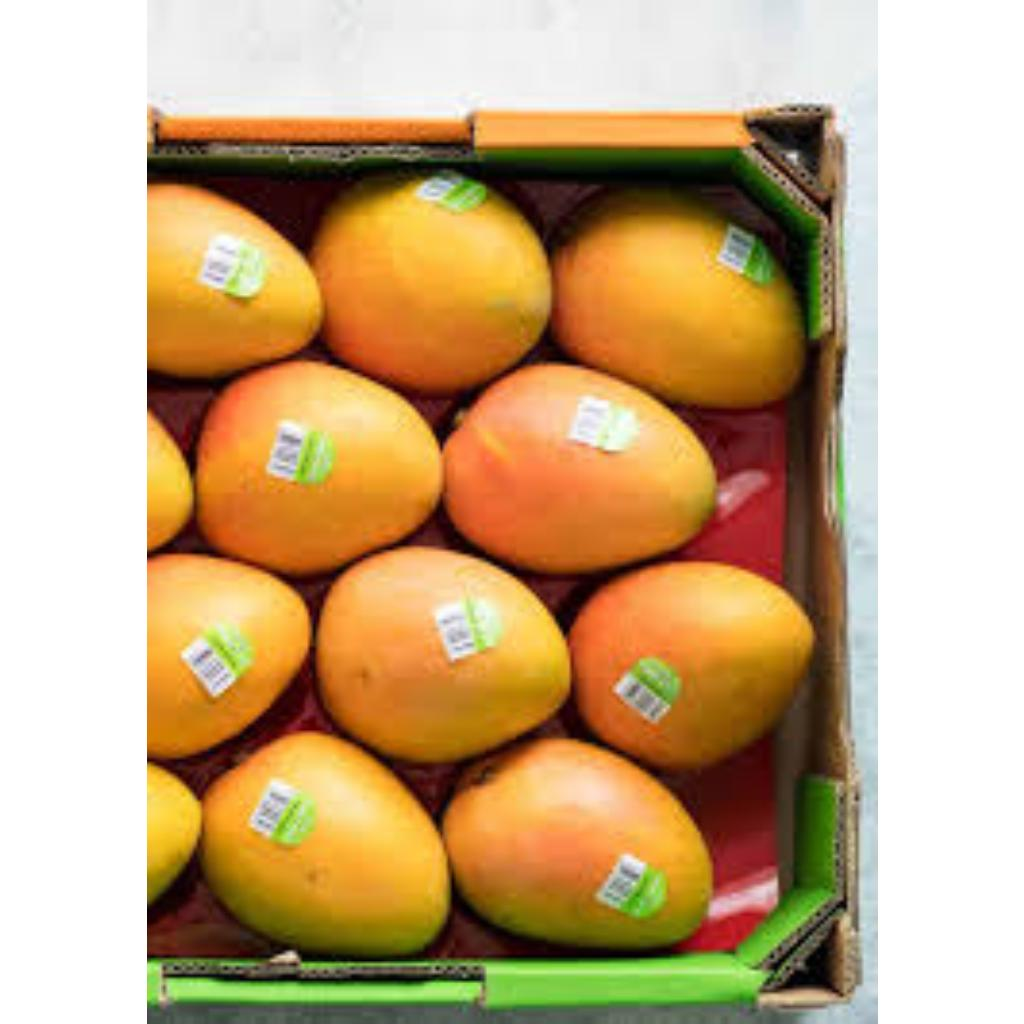mango: (439, 358, 720, 585), (438, 361, 725, 577), (186, 734, 454, 961), (535, 192, 809, 403), (307, 175, 568, 395), (559, 555, 820, 773), (457, 720, 719, 933), (315, 548, 568, 768), (190, 364, 439, 585), (146, 181, 341, 381), (146, 540, 309, 751)
